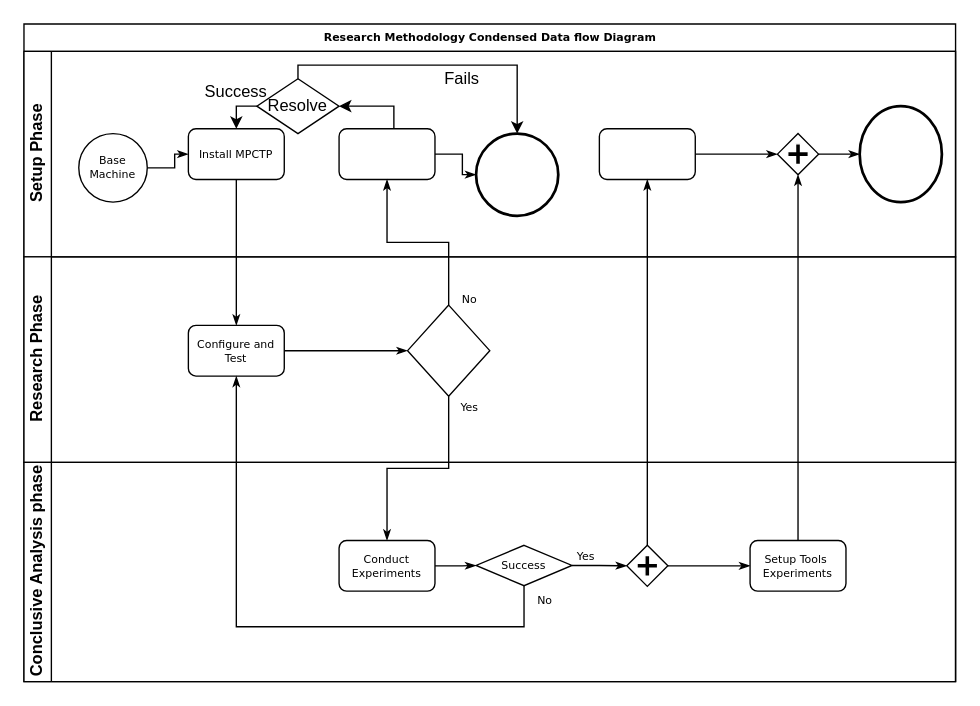
The diagram is 980 pixels wide and 706 high, and some of its shapes have lost their labels. The box of each missing label's shape, as (x1, y1, x2, y2) in pixels:
Conclusive Performance Analysis: (598, 127, 695, 179)
Debug and Resolve: (338, 127, 435, 179)
MPTCP Capable and Powerful: (858, 104, 943, 203)
MPTCP Incapable: (474, 132, 559, 216)
Test Success: (406, 304, 490, 396)
